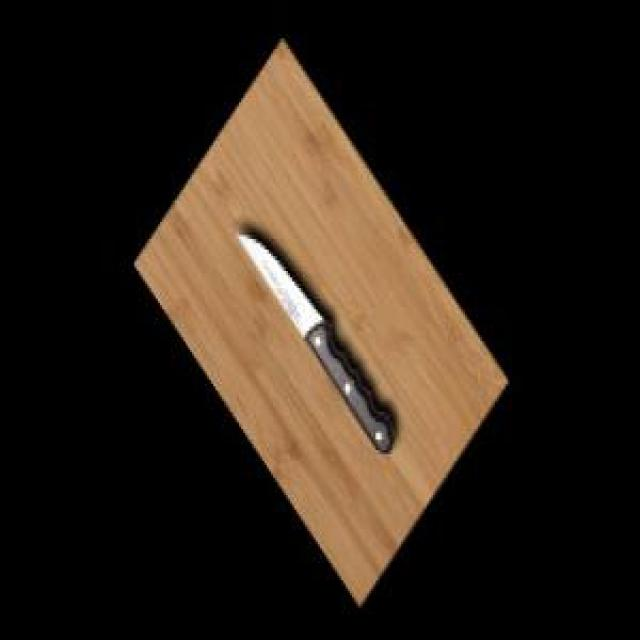knife: (235, 222, 399, 456)
